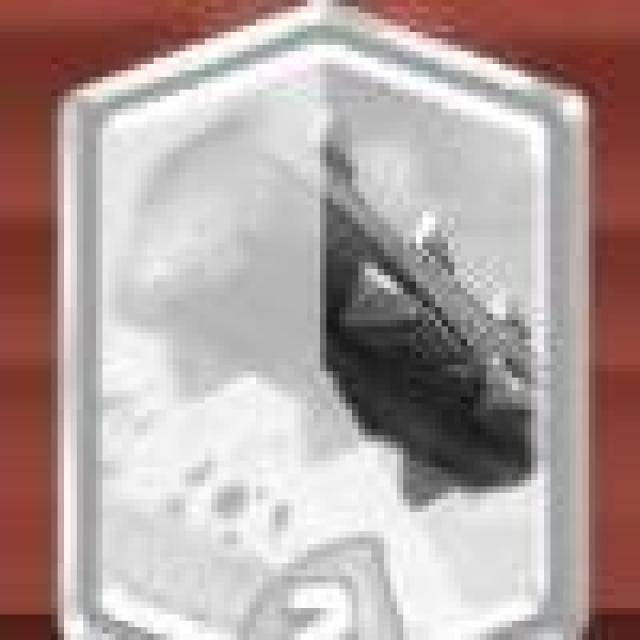Log: (56, 8, 582, 640)
